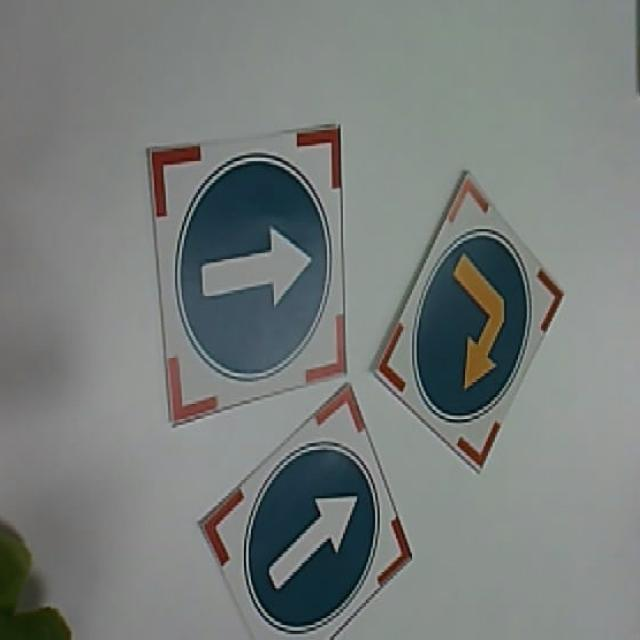straight: (143, 123, 345, 423), (192, 391, 409, 640)
turn: (371, 152, 565, 473)
